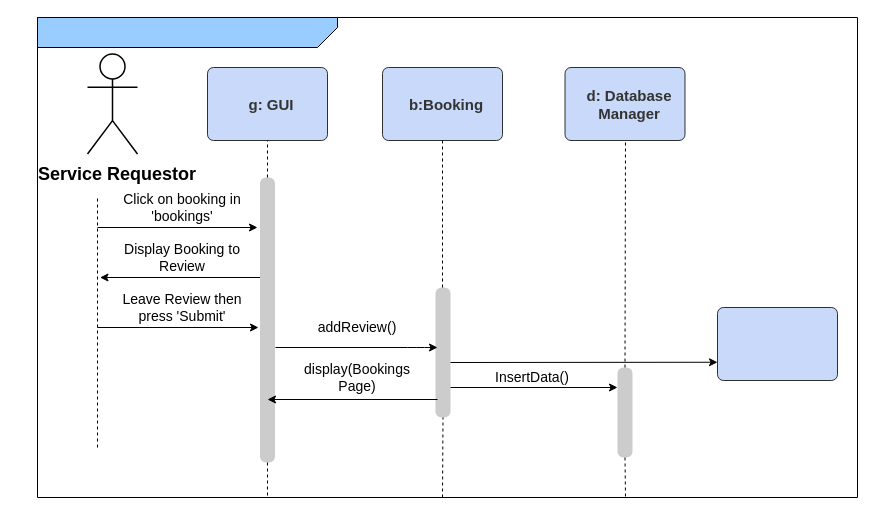
Image size: 876x516. Some labels were removed from this diagram. The centre of each missing label's shape, as x and y in pixels:
"r:Review" goes at (777,343).
"ReviewUser" goes at (187,32).
